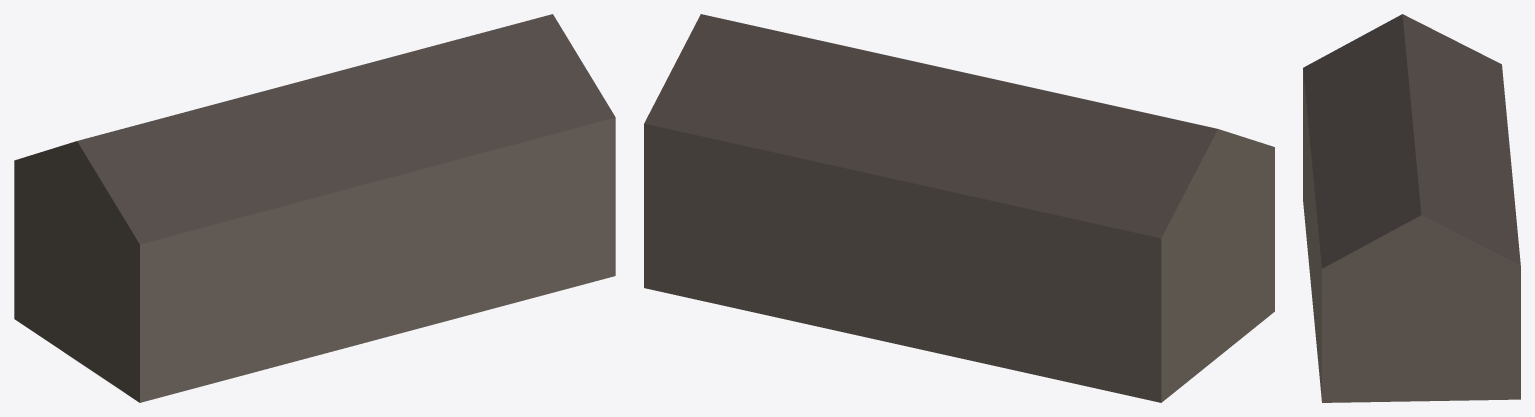
The picture shows the model from 3 angles, left to right: view 1: azimuth 30°, elevation 25°; view 2: azimuth 150°, elevation 25°; view 3: azimuth 270°, elevation 25°; orthographic projection. The views are drawn at different scales.
Visible parts, largest first — view 1: HP-w858807424; view 2: HP-w858807424; view 3: HP-w858807424.
Boxes of the visible parts, left/top/right/bottom form: HP-w858807424: left=14, top=14, right=615, bottom=402; HP-w858807424: left=644, top=14, right=1274, bottom=402; HP-w858807424: left=1303, top=14, right=1520, bottom=402.
Size of the model in its own units: 19.62 by 8.33 by 8.83.
